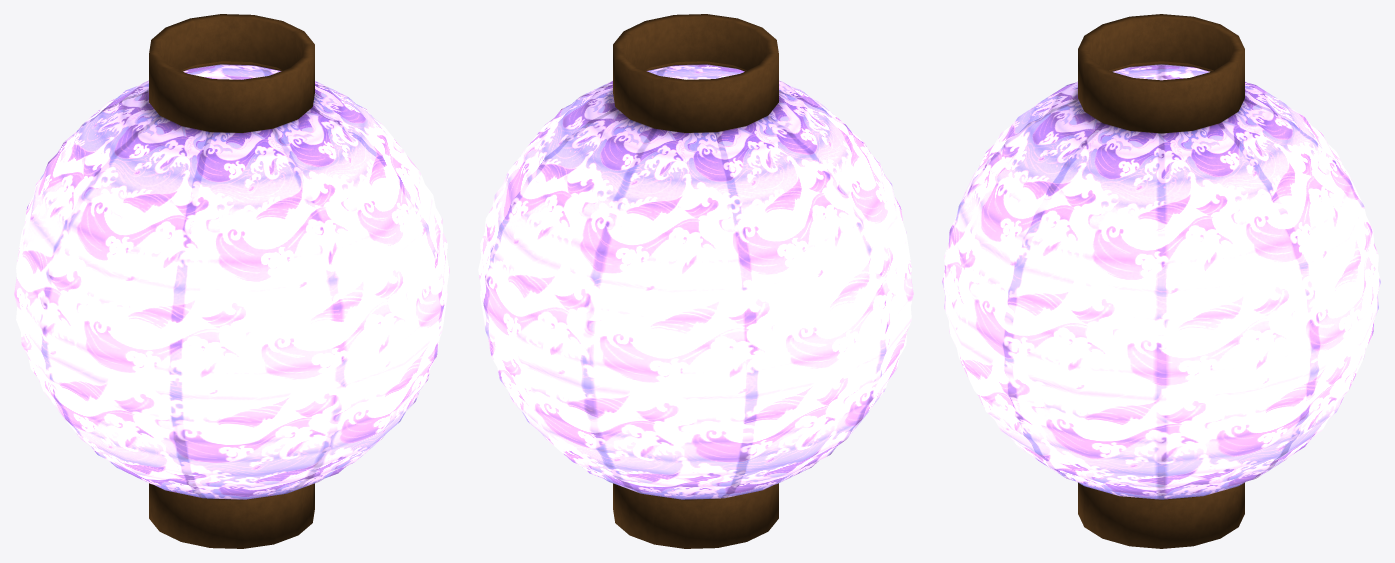
The model's file is spherical_japanese_paper_lantern.glb.
The picture shows the model from 3 angles, left to right: view 1: azimuth 30°, elevation 25°; view 2: azimuth 150°, elevation 25°; view 3: azimuth 270°, elevation 25°; orthographic projection.
Visible parts, largest first — view 1: Sphere.014_0; view 2: Sphere.014_0; view 3: Sphere.014_0.
Part boxes in pixels (x1,y1,x2,y2): Sphere.014_0: [14, 14, 449, 548]; Sphere.014_0: [478, 14, 913, 548]; Sphere.014_0: [942, 14, 1380, 548].
Bounding box in the file's own units: 3.39 × 3.96 × 3.39.
Materials: 1 (1 with a texture image).
